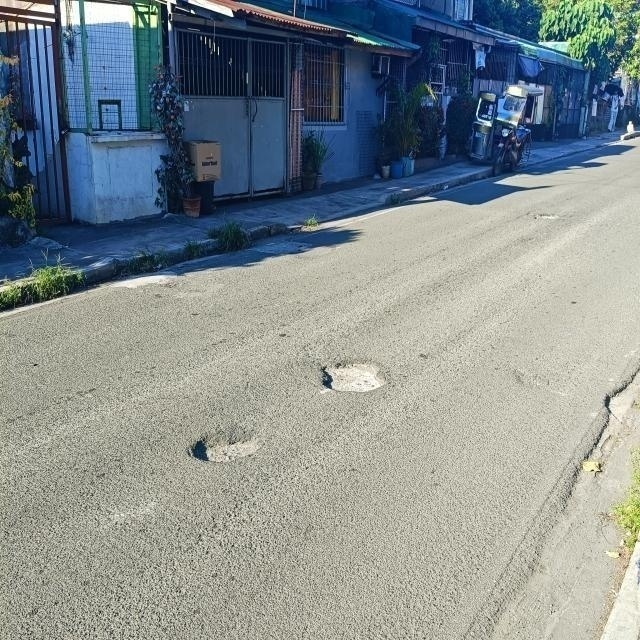pothole: (185, 423, 268, 475), (307, 359, 398, 401)
